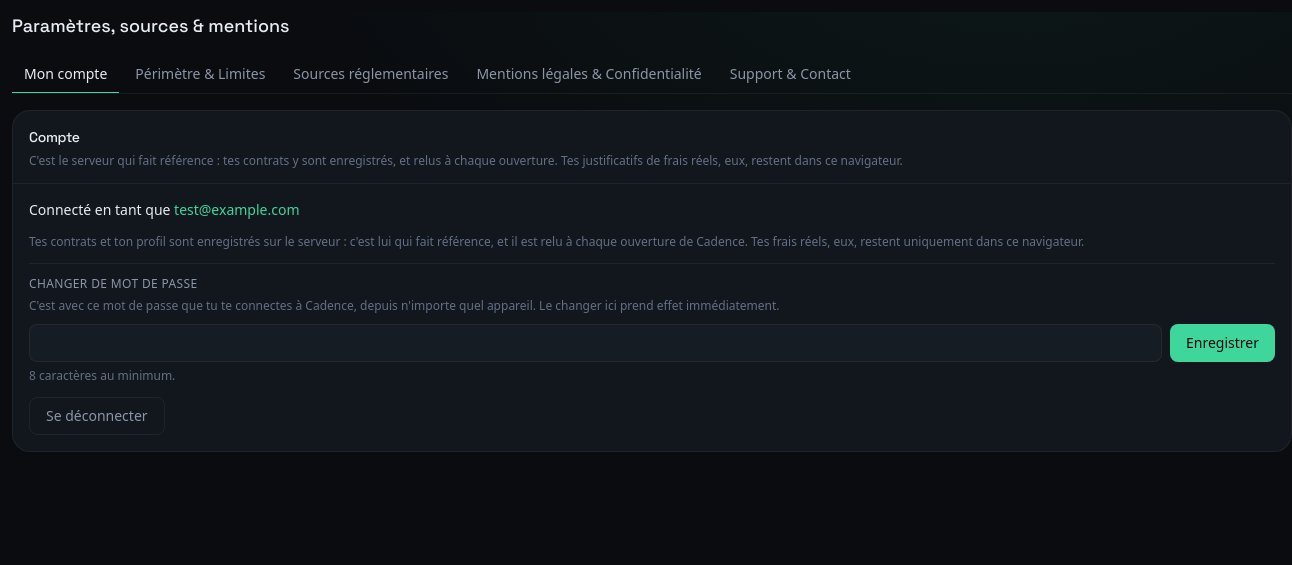
Test: ParametresSourcesEtMentions — les cinq sous-sections › bascule vers « Périmètre & Limites »
The image size is (1292, 565).
Click the button "Périmètre & Limites" at (200, 75), box [123,56,277,94]
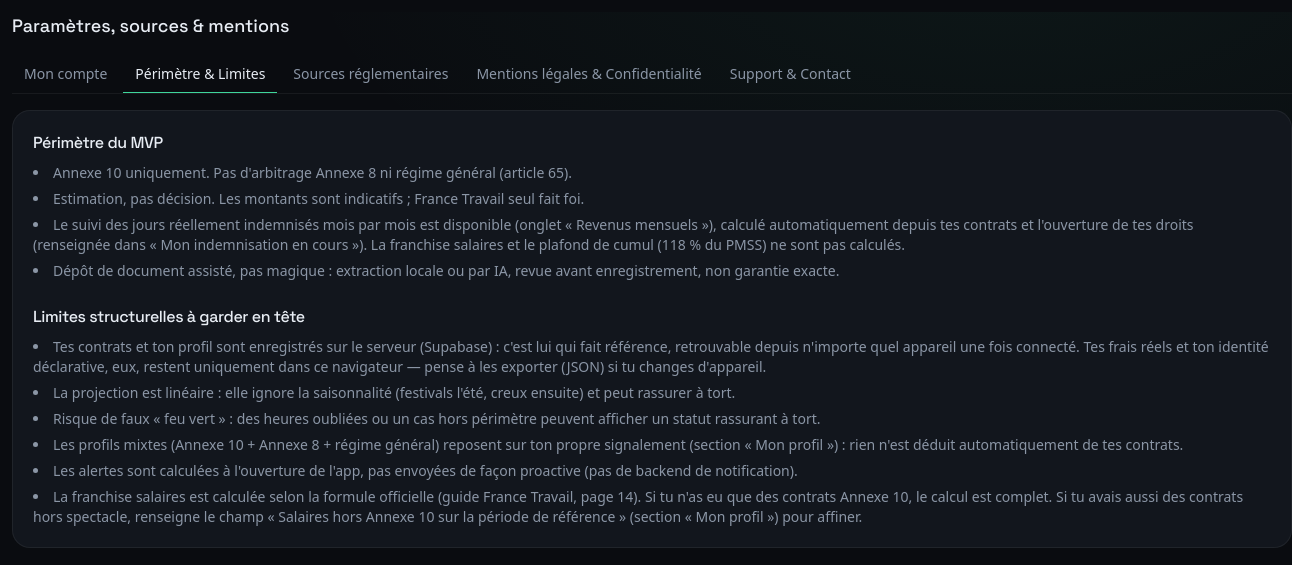
Expected: the heading "Périmètre du MVP" is shown, [33,132,163,153]
